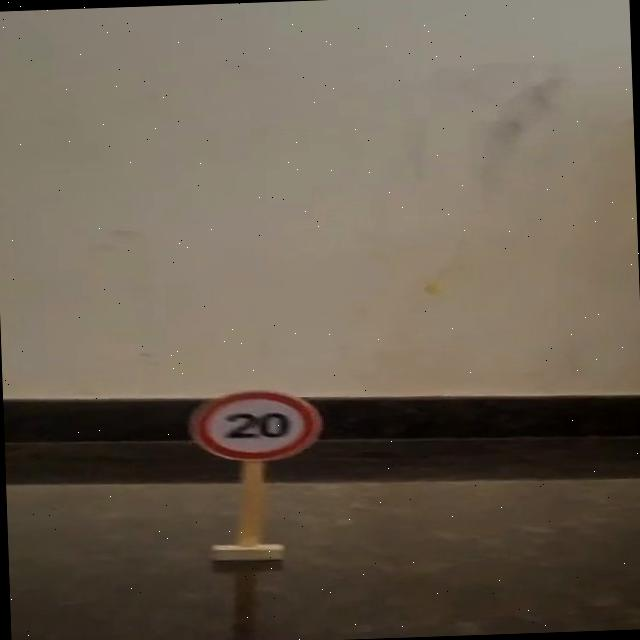Speed20: (173, 381, 332, 470)
